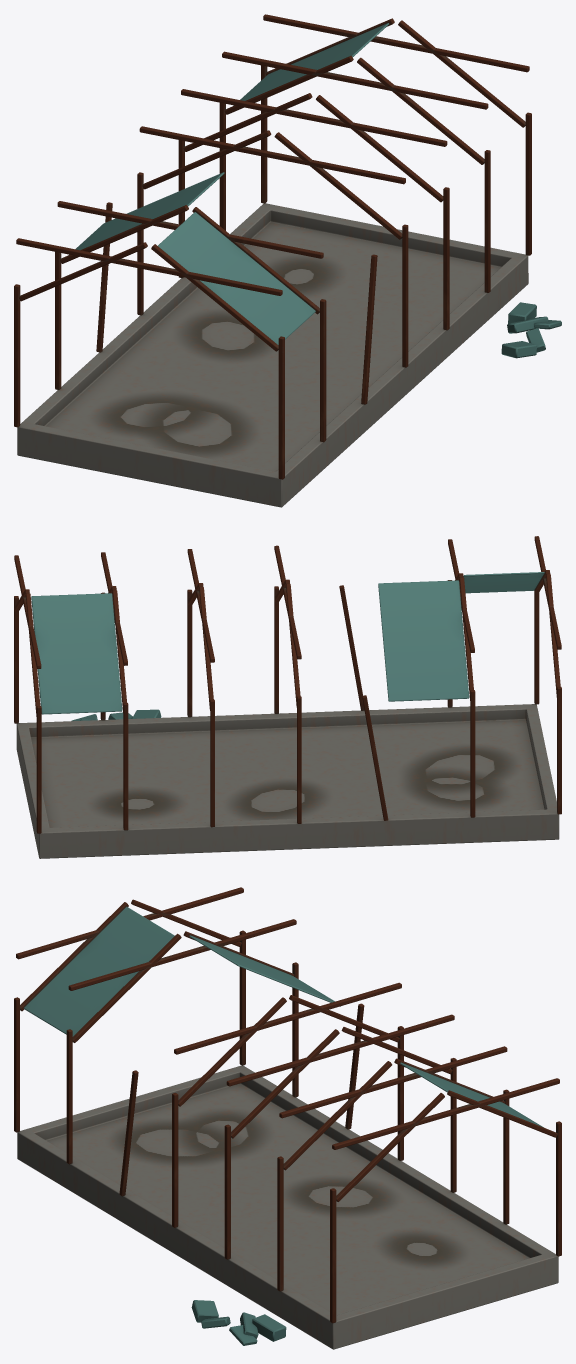
The model's file is estufa.glb.
The picture shows the model from 3 angles, top to bottom: view 1: azimuth 30°, elevation 25°; view 2: azimuth 150°, elevation 25°; view 3: azimuth 270°, elevation 25°; orthographic projection. The views are drawn at different scales.
Visible parts, largest first — view 1: g_estufa; view 2: g_estufa; view 3: g_estufa.
Part boxes in pixels (bbox=[...]): g_estufa: bbox=[14, 14, 561, 507]; g_estufa: bbox=[14, 536, 561, 858]; g_estufa: bbox=[14, 887, 561, 1349].
Size of the model in its own units: 10.05 by 4.14 by 8.95.
Materials: 1 (1 with a texture image).
